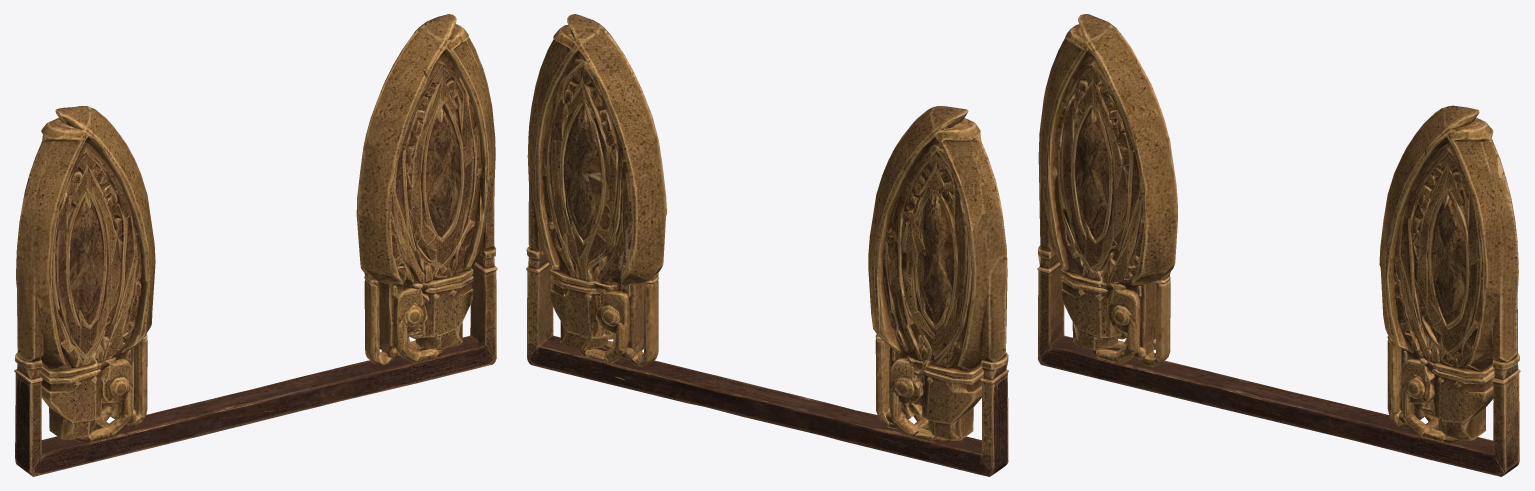
File: matching-pair.glb
3 views of the same model, side by side, from view 1: azimuth 30°, elevation 25°; view 2: azimuth 150°, elevation 25°; view 3: azimuth 330°, elevation 25° (orthographic).
Visible parts, largest first — view 1: Mesh_0; view 2: Mesh_0; view 3: Mesh_0.
Boxes of the visible parts, box(x1,y1,x2,y2) form: Mesh_0: box(14, 14, 497, 476); Mesh_0: box(526, 14, 1008, 476); Mesh_0: box(1037, 14, 1520, 476).
Bounding box in the file's own units: 1.9 × 1.34 × 0.185.
1 material, 1 textured.
